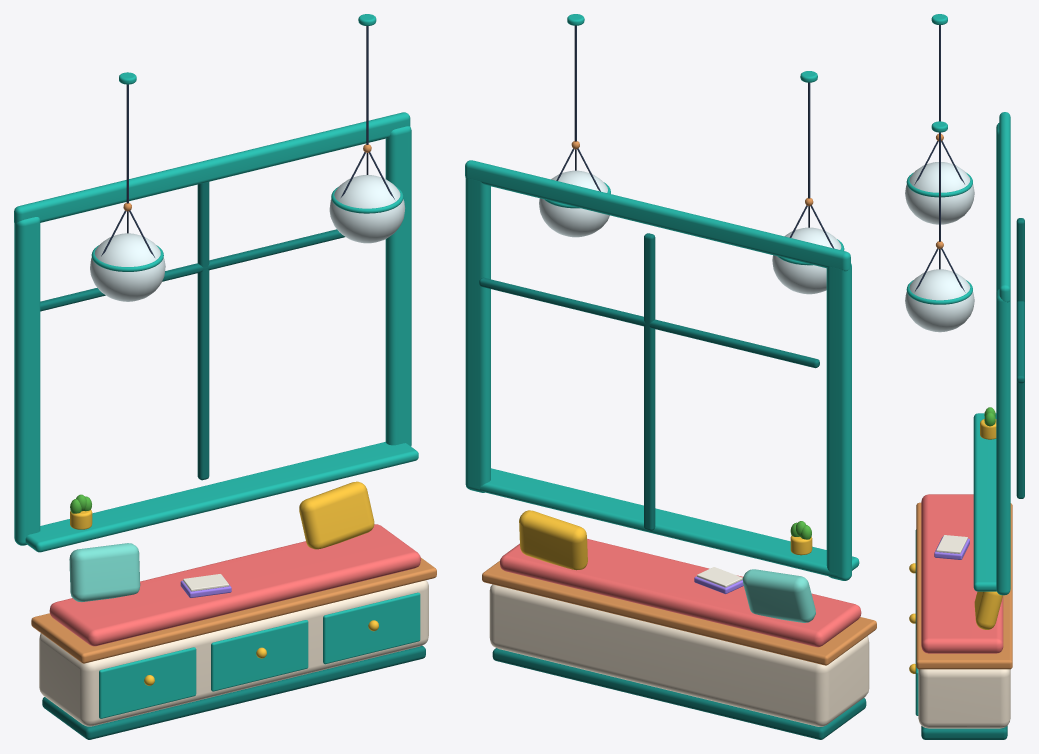
The model's file is BayWindow.fbx.
3 renders of one model, left to right at view 1: azimuth 30°, elevation 25°; view 2: azimuth 150°, elevation 25°; view 3: azimuth 270°, elevation 25°, orthographic. The views are drawn at different scales.
Visible parts, largest first — view 1: BayWindow mesh; view 2: BayWindow mesh; view 3: BayWindow mesh.
Boxes of the visible parts, bbox=[...] form: BayWindow mesh: bbox=[14, 14, 436, 739]; BayWindow mesh: bbox=[465, 14, 876, 739]; BayWindow mesh: bbox=[905, 14, 1024, 739].
Bounding box in the file's own units: 2.04 × 3.2 × 0.585.
